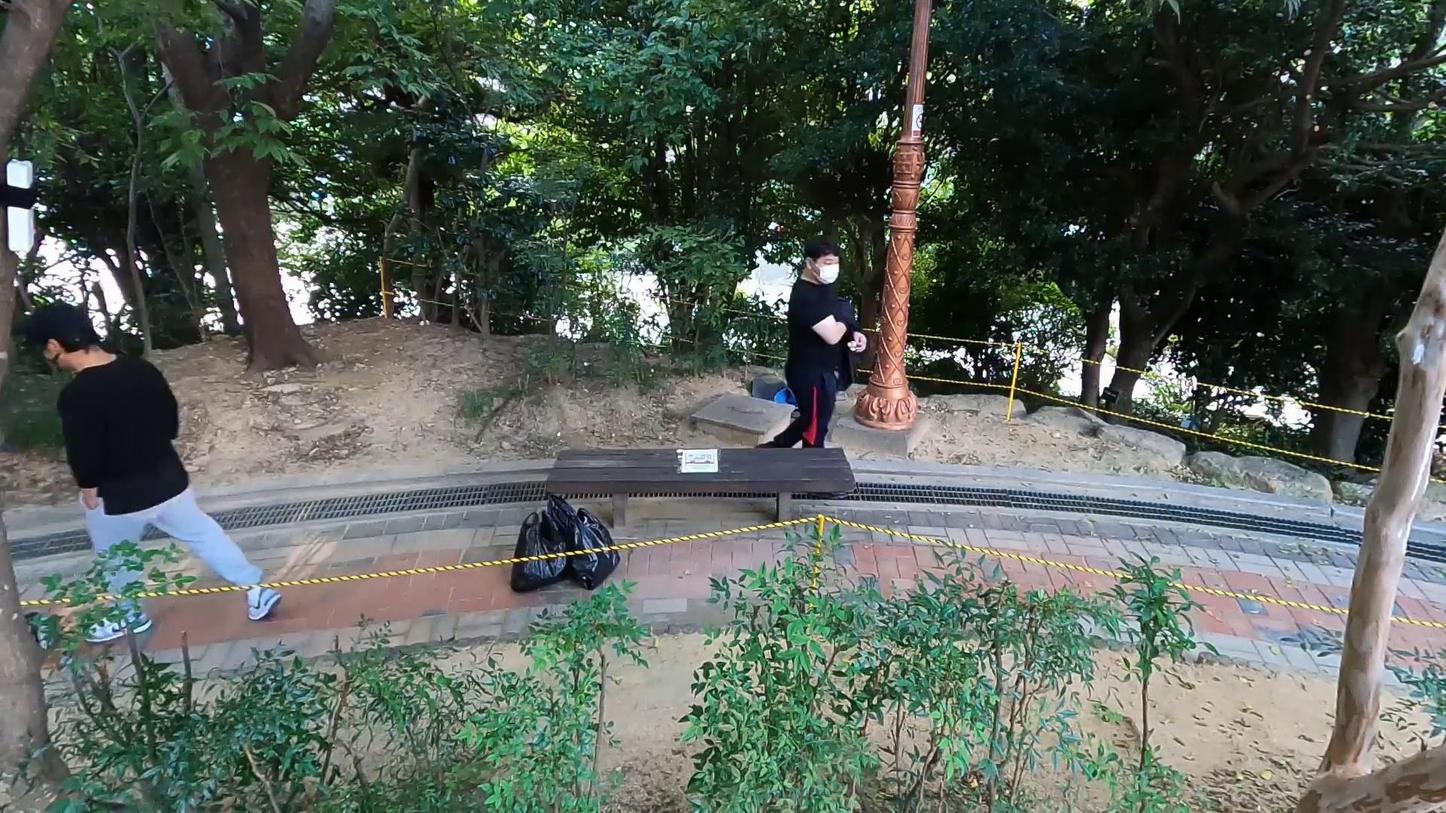person: (27, 296, 284, 643), (755, 236, 866, 465)
trash: (526, 485, 592, 568), (558, 508, 623, 592), (514, 513, 570, 591), (748, 375, 811, 418)
